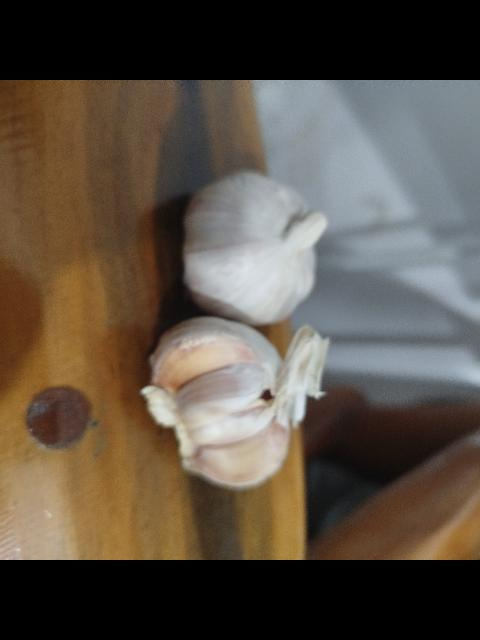garlic: (139, 316, 329, 490), (180, 172, 328, 326)
